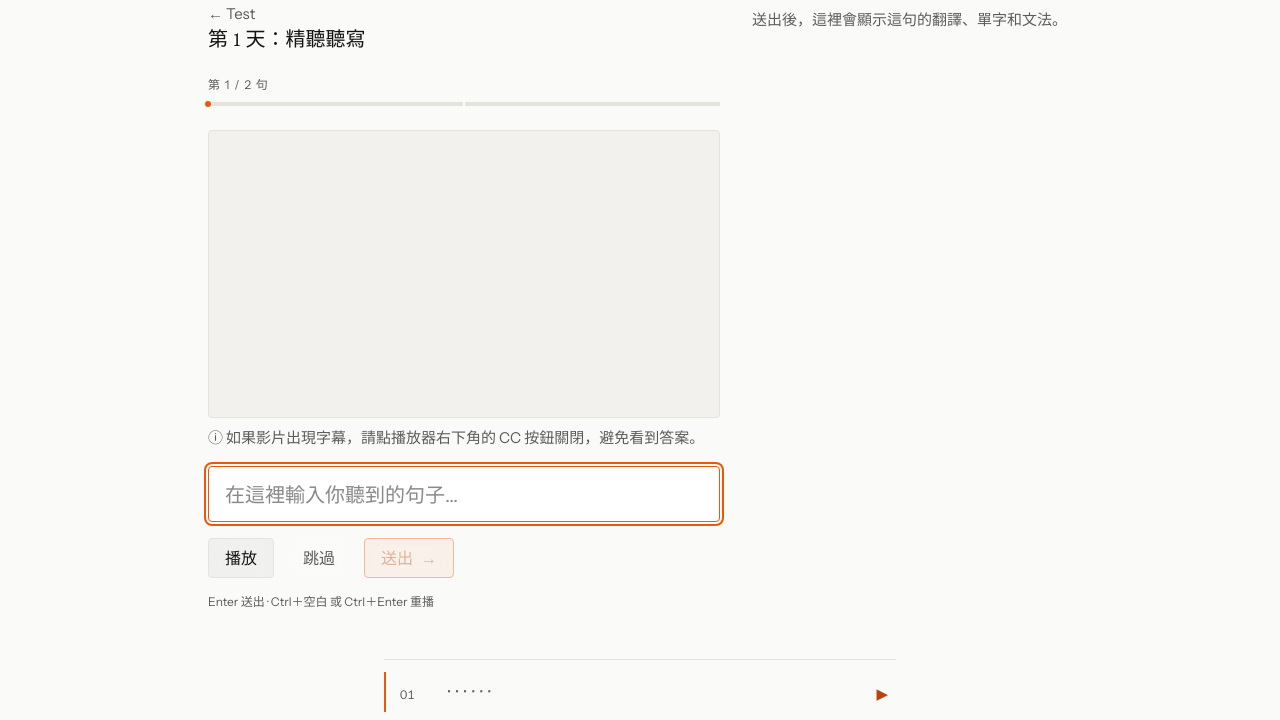
DictationSession › shows two-line feedback after Enter, then plays the next sentence
The width and height of the screenshot is (1280, 720).
Type "go hom" into the text box labelled "你聽到的句子". click: point(464, 494)
box: [208,466,720,522]
Then press Enter
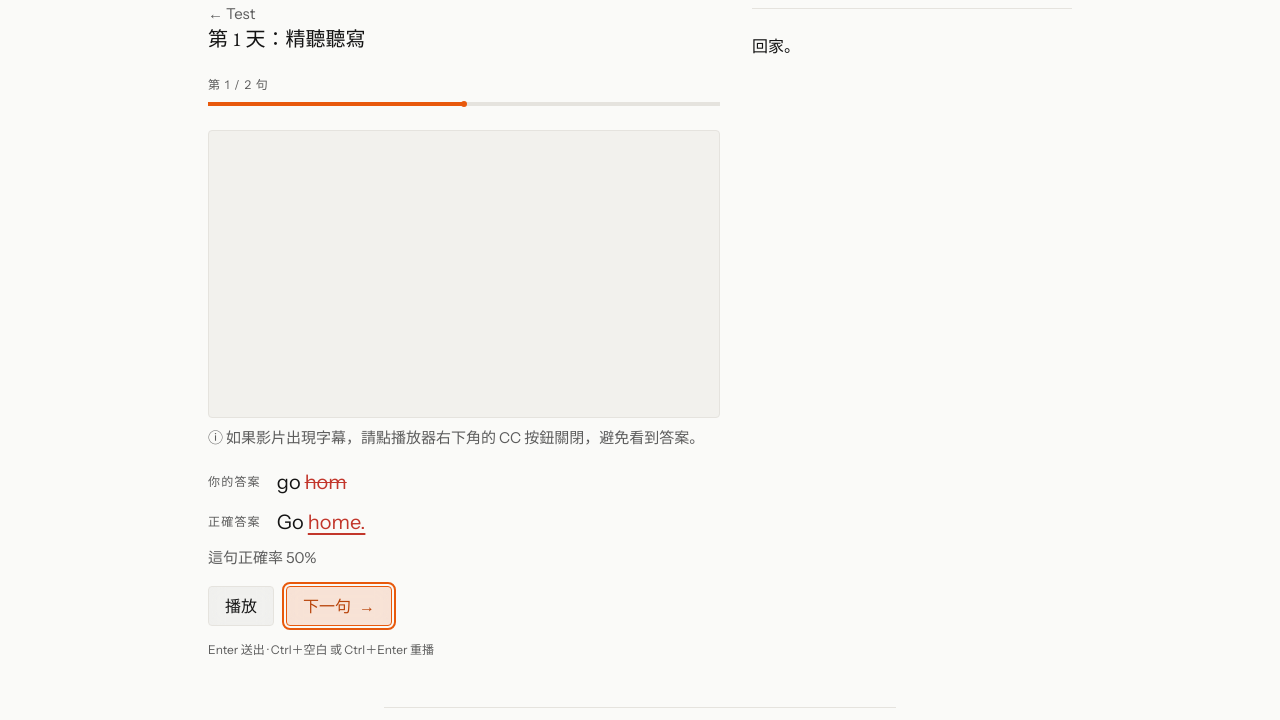
Expected: the text "你的答案" is shown, [208,474,261,489]
Expected: the text "home." is shown, [308,510,365,534]
Expected: the text "這句正確率 50%" is shown, [208,548,316,567]
Press Enter
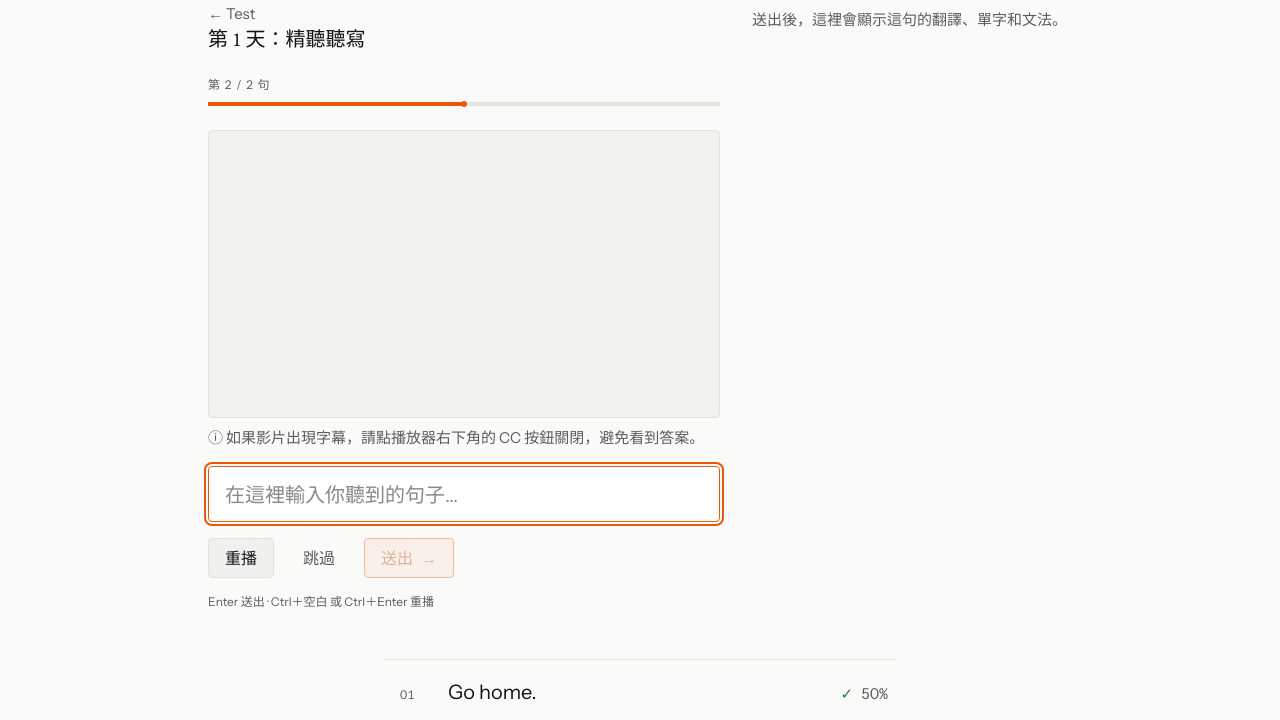
Expected: the text "第 2 / 2 句" is shown, [208,77,271,94]
